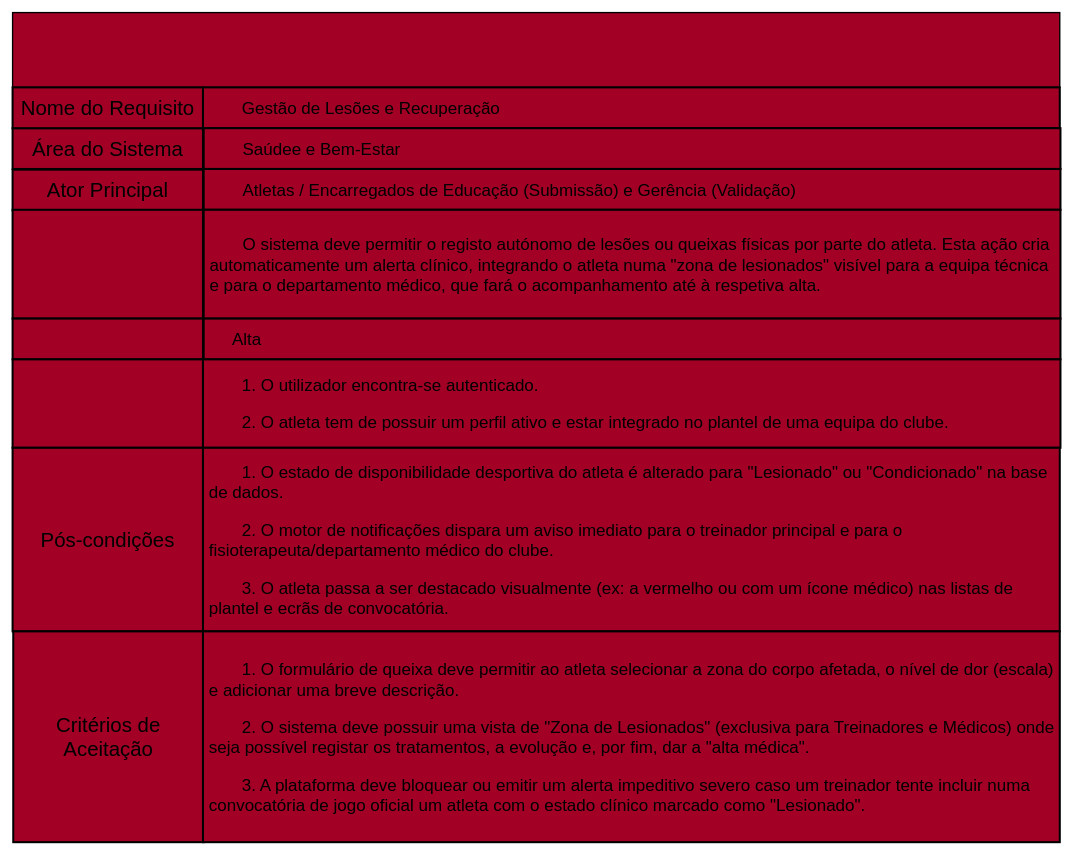
This 1073x855 diagram has some shape labels left out. Each missing label, with the centre of its shape:
Descrição: the point at 107,263
Prioridade: the point at 107,338
Pré-condições: the point at 107,403
RF-12: the point at 536,50
